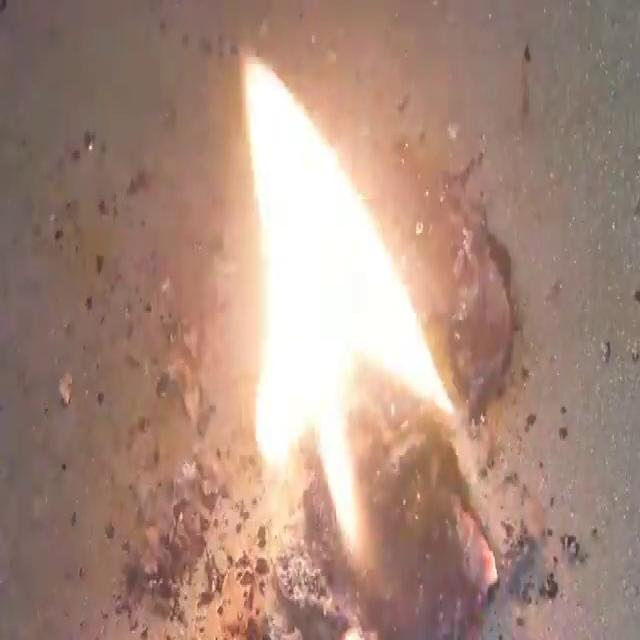Fire: (3, 6, 635, 636), (236, 50, 461, 567)
